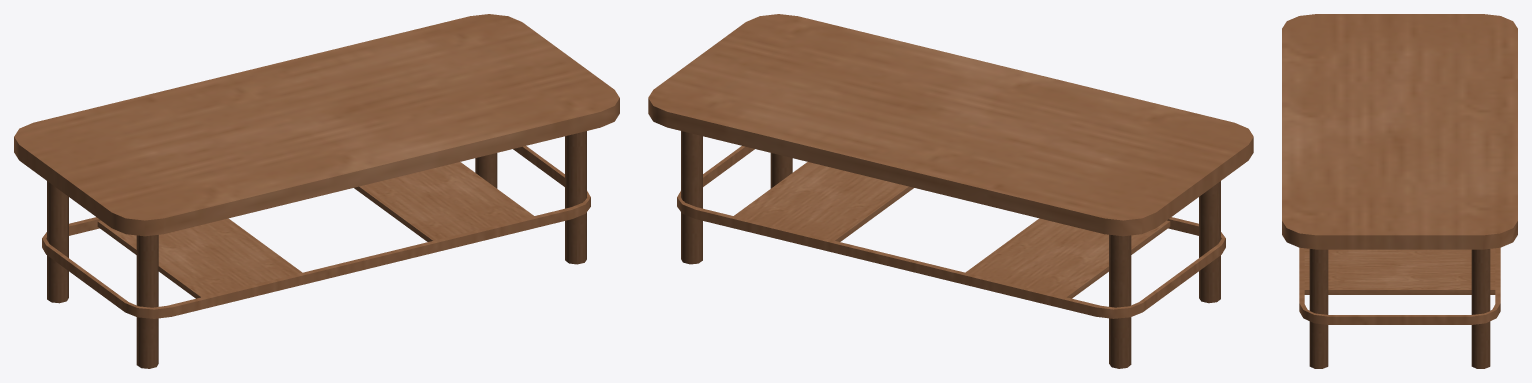
The model's file is furniture1_13.fbx.
3 views of the same model, side by side, from view 1: azimuth 30°, elevation 25°; view 2: azimuth 150°, elevation 25°; view 3: azimuth 270°, elevation 25° (orthographic). The views are drawn at different scales.
Visible parts, largest first — view 1: polySurface1100; view 2: polySurface1100; view 3: polySurface1100.
Boxes of the visible parts, bbox=[...] form: polySurface1100: bbox=[14, 14, 619, 368]; polySurface1100: bbox=[648, 14, 1253, 368]; polySurface1100: bbox=[1282, 14, 1517, 368].
Bounding box in the file's own units: 200 × 61.54 × 90.
1 material, 1 textured.
